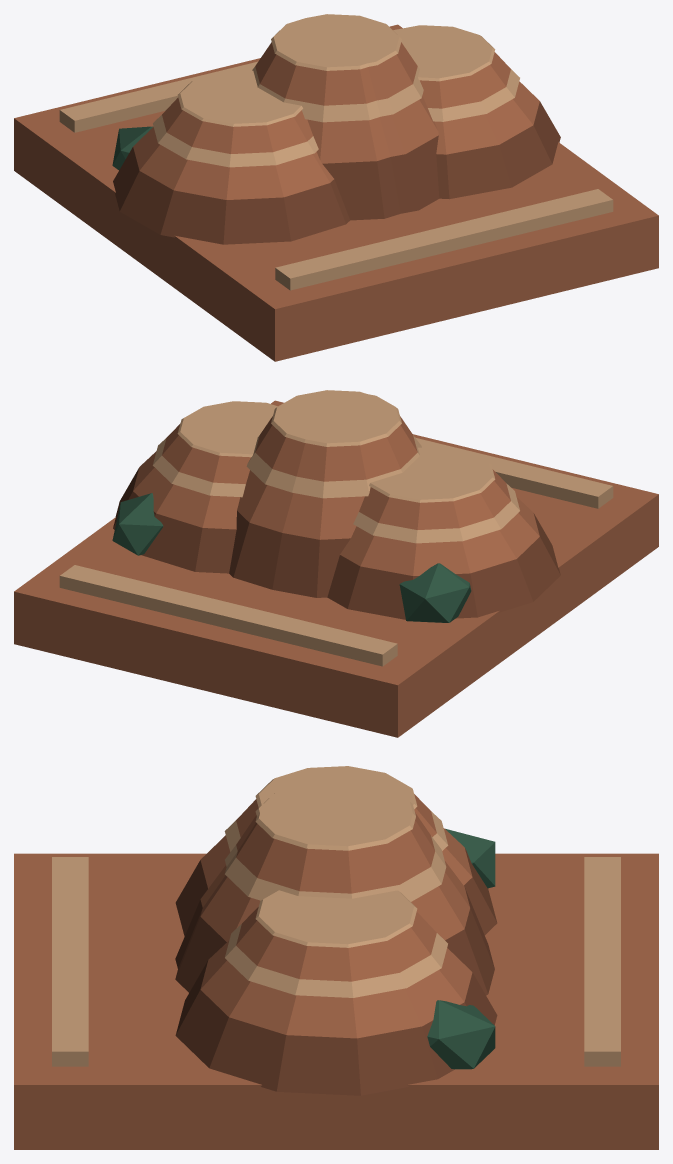
The model's file is Desert_MineRoof_Showcase.glb.
3 views of the same model, one above another, from view 1: azimuth 30°, elevation 25°; view 2: azimuth 150°, elevation 25°; view 3: azimuth 270°, elevation 25° (orthographic). The views are drawn at different scales.
Parts seen in each view (by area): view 1: Desert_MineRoof_Showcase; view 2: Desert_MineRoof_Showcase; view 3: Desert_MineRoof_Showcase.
Part boxes in pixels (x1,y1,x2,y2): Desert_MineRoof_Showcase: (14, 14, 658, 361); Desert_MineRoof_Showcase: (14, 390, 658, 737); Desert_MineRoof_Showcase: (14, 766, 658, 1149).
Bounding box in the file's own units: 5.76 × 2.38 × 6.3.
